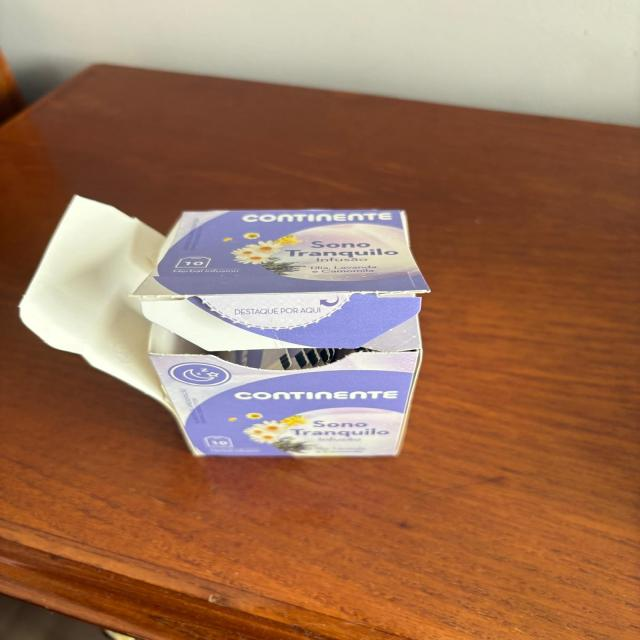damaged_package: (19, 197, 430, 458)
